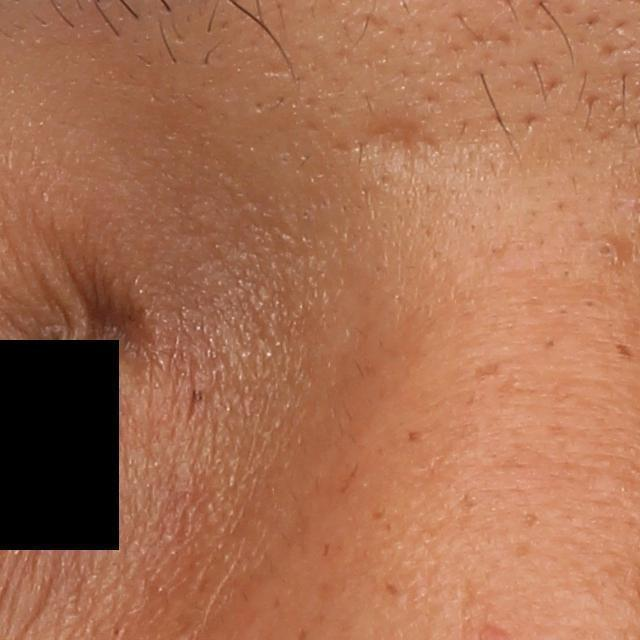atrophic_scar: (354, 110, 441, 164)
comedo: (589, 236, 623, 265)
melasma: (405, 425, 428, 445)
